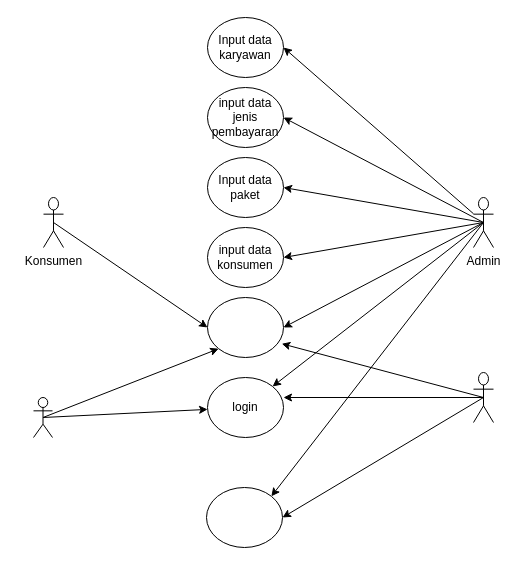
The diagram is 526 pixels wide and 565 high, and some of its shapes have lost their labels. Each missing label, with the centre of its shape:
"buat transaksi pembayaran" belongs at point (244, 517).
"karyawan" belongs at point (483, 397).
"lihat history order" belongs at point (245, 327).
"pemimpin" belongs at point (42, 417).
